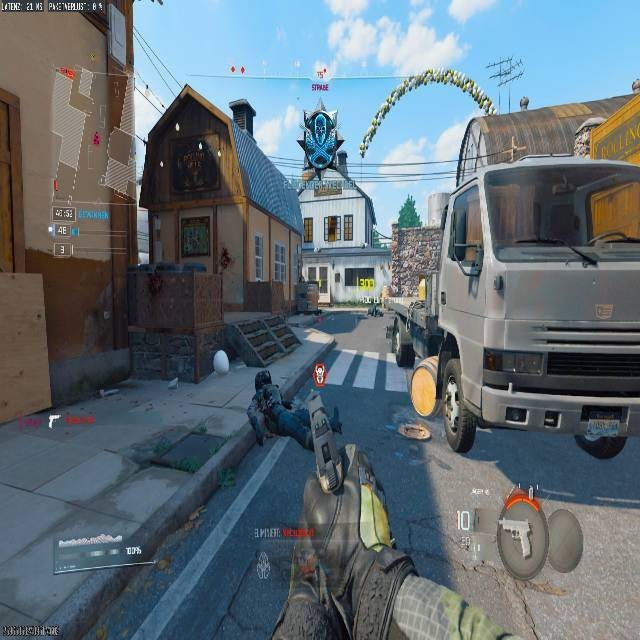head: (312, 107, 332, 129), (254, 370, 271, 388)
player: (296, 107, 347, 194)
